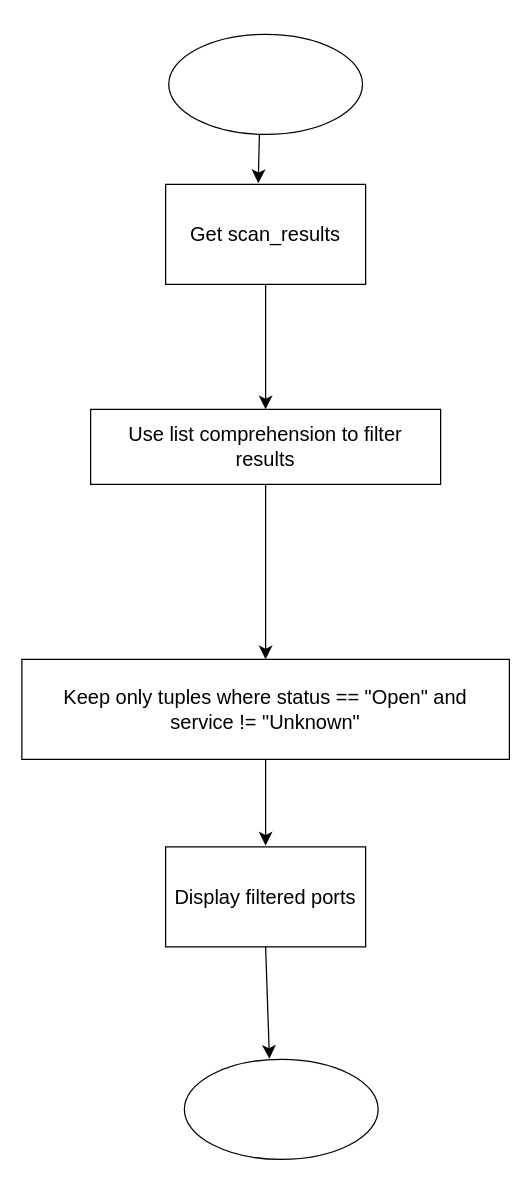
Some shapes in this 531 by 1181 pixel diagram are drawn without their labels. Each missing label, with the box of its shape:
End: (183, 1058, 378, 1159)
Start: (168, 33, 362, 134)
